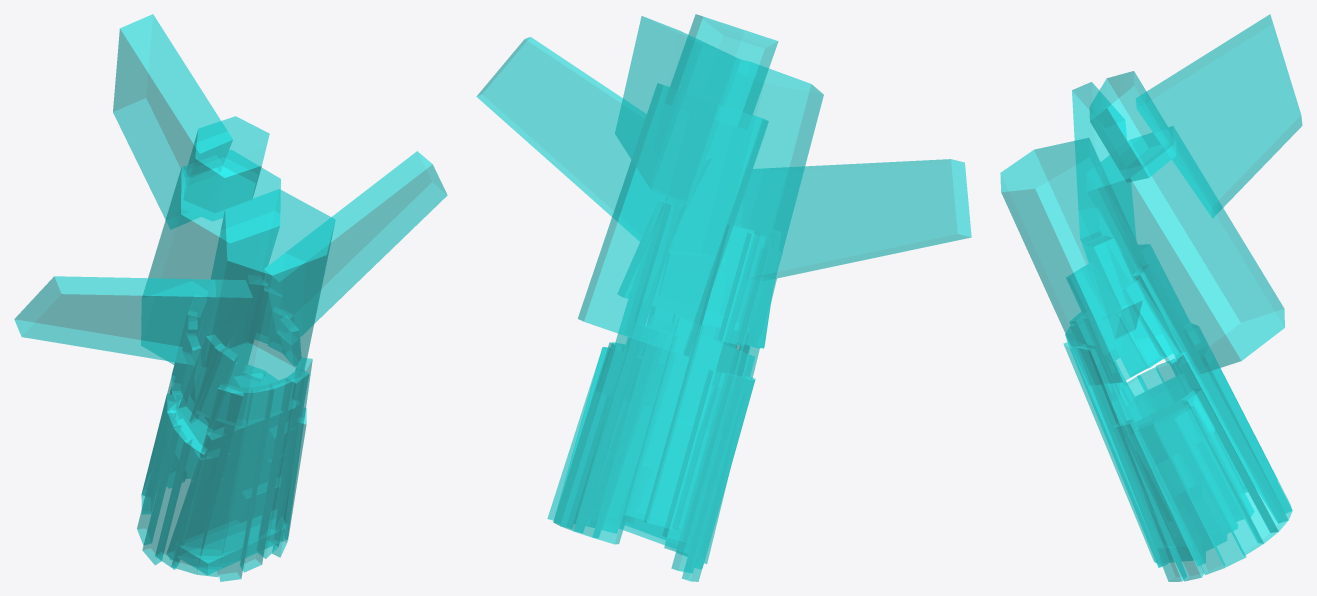
File: SM_Bld_Plane_Crash_01_Collision.fbx
The picture shows the model from 3 angles, left to right: view 1: azimuth 30°, elevation 25°; view 2: azimuth 150°, elevation 25°; view 3: azimuth 270°, elevation 25°; orthographic projection. The views are drawn at different scales.
Parts seen in each view (by area): view 1: SM_Bld_Plane_Crash_01_Collision; view 2: SM_Bld_Plane_Crash_01_Collision; view 3: SM_Bld_Plane_Crash_01_Collision.
Part boxes in pixels (x1=…): SM_Bld_Plane_Crash_01_Collision: x1=14, y1=14, x2=447, y2=581; SM_Bld_Plane_Crash_01_Collision: x1=476, y1=14, x2=971, y2=581; SM_Bld_Plane_Crash_01_Collision: x1=1000, y1=14, x2=1302, y2=581.
Size of the model in its own units: 2208 by 2581 by 1339.
